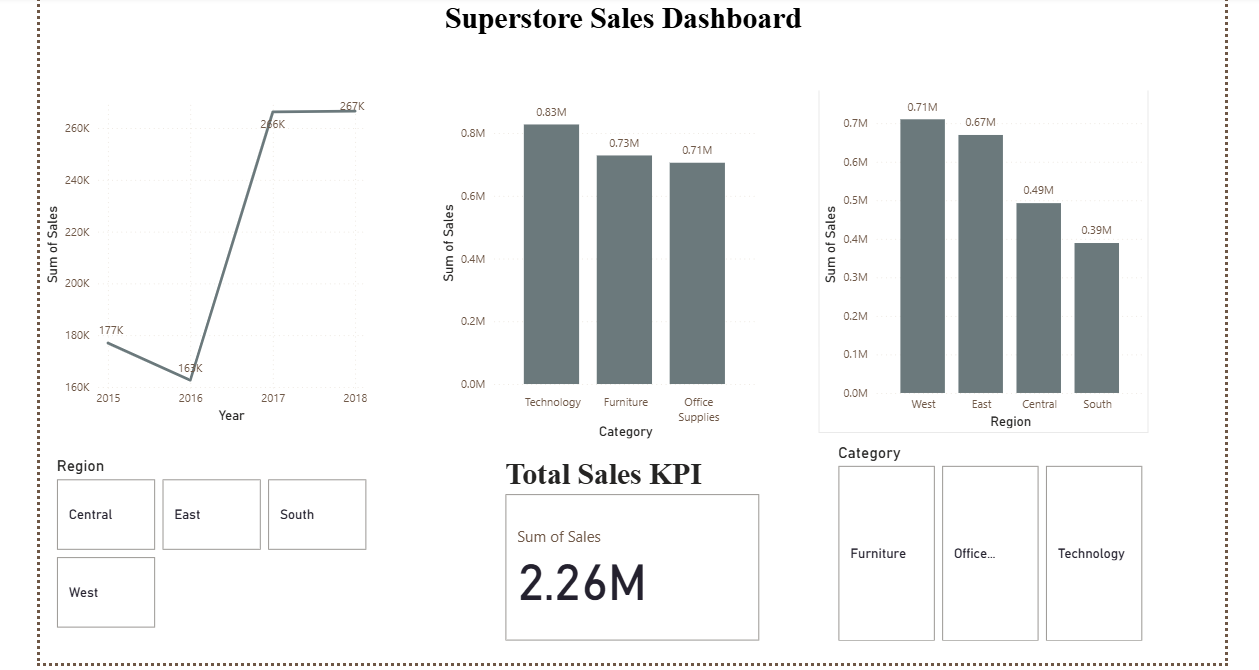

The dashboard page shown, as its layout file describes it:
{"tool":"powerbi","page":{"name":"Page 1","canvas":[1280,720],"ordinal":0},"visuals":[{"type":"columnChart","fields":{"Y":["Sum(superstore_cleaned.Sales)"],"Category":["superstore_cleaned.Category","superstore_cleaned.Sub-Category","superstore_cleaned.Product Name"]},"box":[427.5,81,351.4,401.6],"z":0},{"type":"clusteredColumnChart","fields":{"Category":["superstore_cleaned.Region"],"Y":["Sum(superstore_cleaned.Sales)"]},"box":[840.4,74.5,356.2,396.7],"z":1000},{"type":"lineChart","fields":{"Y":["Sum(superstore_cleaned.Sales)"],"Category":["superstore_cleaned.Order Date.Variation.Date Hierarchy.Year","superstore_cleaned.Order Date.Variation.Date Hierarchy.Quarter","superstore_cleaned.Order Date.Variation.Date Hierarchy.Month","superstore_cleaned.Order Date.Variation.Date Hierarchy.Day"]},"box":[0,81,357.8,383.8],"z":2000},{"type":"textbox","box":[0,0,1280.8,102],"z":3000},{"type":"advancedSlicerVisual","fields":{"Values":["superstore_cleaned.Region"]},"box":[13,497.1,344.9,189.4],"z":4000},{"type":"cardVisual","title":"Total Sales KPI","fields":{"Data":["Sum(superstore_cleaned.Sales)"]},"box":[497.1,497.1,285,204],"z":5000},{"type":"advancedSlicerVisual","fields":{"Values":["superstore_cleaned.Category"]},"box":[856.6,482.5,340,218.6],"z":6000}]}

Visuals, with their boxes on the page's 1280x720 design canvas (x1, y1, x2, y2). These are canvas units, not pixel positions in the 1259x670 screenshot, which may show the page scaled, cropped or inside an application window:
columnChart - Sum(superstore_cleaned.Sales) x superstore_cleaned.Category: locate(428, 81, 779, 483)
clusteredColumnChart - superstore_cleaned.Region x Sum(superstore_cleaned.Sales): locate(840, 74, 1197, 471)
lineChart - Sum(superstore_cleaned.Sales) x superstore_cleaned.Order Date.Variation.Date Hierarchy.Year: locate(0, 81, 358, 465)
textbox: locate(0, 0, 1281, 102)
advancedSlicerVisual - superstore_cleaned.Region: locate(13, 497, 358, 686)
"Total Sales KPI" cardVisual: locate(497, 497, 782, 701)
advancedSlicerVisual - superstore_cleaned.Category: locate(857, 482, 1197, 701)
